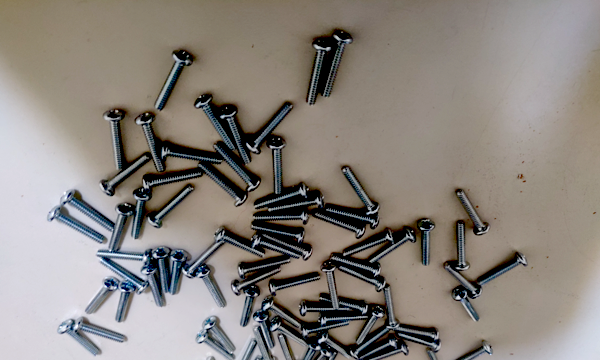longscrew: (248, 99, 292, 156), (199, 95, 236, 157), (154, 51, 192, 111), (215, 146, 262, 192), (60, 192, 112, 231), (47, 209, 103, 245), (224, 103, 253, 166), (324, 30, 350, 98), (305, 40, 331, 108), (457, 187, 493, 236), (200, 166, 243, 207), (151, 187, 195, 227), (103, 154, 148, 193), (104, 110, 132, 170), (136, 112, 164, 172), (344, 165, 377, 215), (478, 252, 529, 284), (99, 258, 147, 291), (324, 204, 383, 230), (141, 166, 204, 190), (74, 319, 126, 348), (59, 323, 101, 358), (162, 143, 228, 165), (215, 230, 265, 259), (252, 233, 302, 262), (253, 187, 311, 212), (443, 262, 480, 301), (371, 230, 412, 265), (340, 233, 395, 259), (266, 233, 315, 262), (185, 243, 223, 280), (312, 212, 366, 238), (265, 298, 305, 333), (267, 137, 290, 197), (267, 275, 321, 300), (339, 268, 385, 297), (238, 257, 295, 280), (234, 270, 282, 296), (330, 255, 386, 277), (198, 267, 227, 309), (82, 280, 117, 314), (353, 328, 390, 360), (356, 307, 385, 347), (452, 288, 483, 325), (108, 204, 131, 253), (251, 224, 304, 245), (204, 317, 236, 351), (196, 332, 234, 360), (271, 321, 309, 349), (393, 332, 443, 352), (131, 188, 150, 240), (168, 250, 188, 296), (254, 310, 277, 350), (324, 261, 342, 312), (253, 212, 310, 228), (240, 288, 262, 329), (271, 194, 324, 211), (142, 265, 162, 310), (152, 248, 172, 293), (303, 321, 355, 338), (358, 340, 398, 360), (454, 221, 470, 271), (319, 297, 372, 312), (320, 334, 350, 360), (253, 327, 276, 360), (383, 285, 401, 327), (115, 282, 134, 321), (420, 218, 435, 267), (318, 311, 369, 325), (452, 343, 492, 360), (97, 250, 151, 262), (278, 334, 300, 360), (366, 347, 409, 360), (402, 329, 448, 341), (298, 305, 351, 315), (233, 340, 256, 360), (303, 348, 333, 360), (303, 342, 322, 360), (432, 351, 452, 360), (314, 354, 336, 360), (207, 357, 232, 360), (236, 358, 261, 360)
